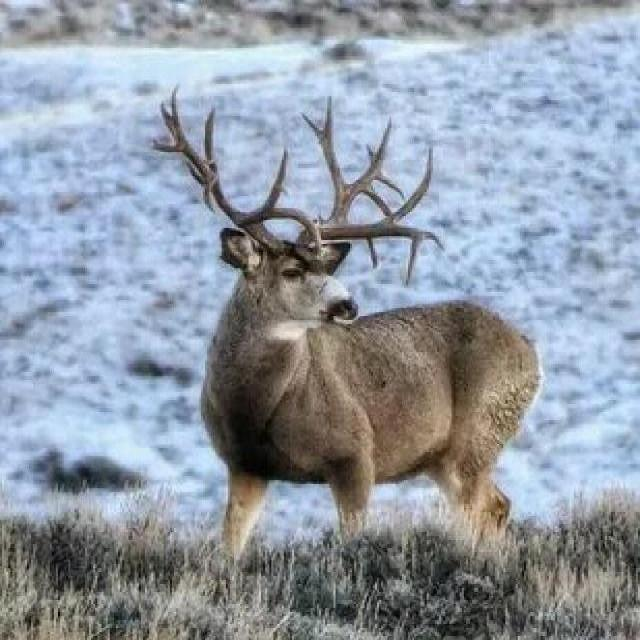deer: (125, 173, 566, 550)
